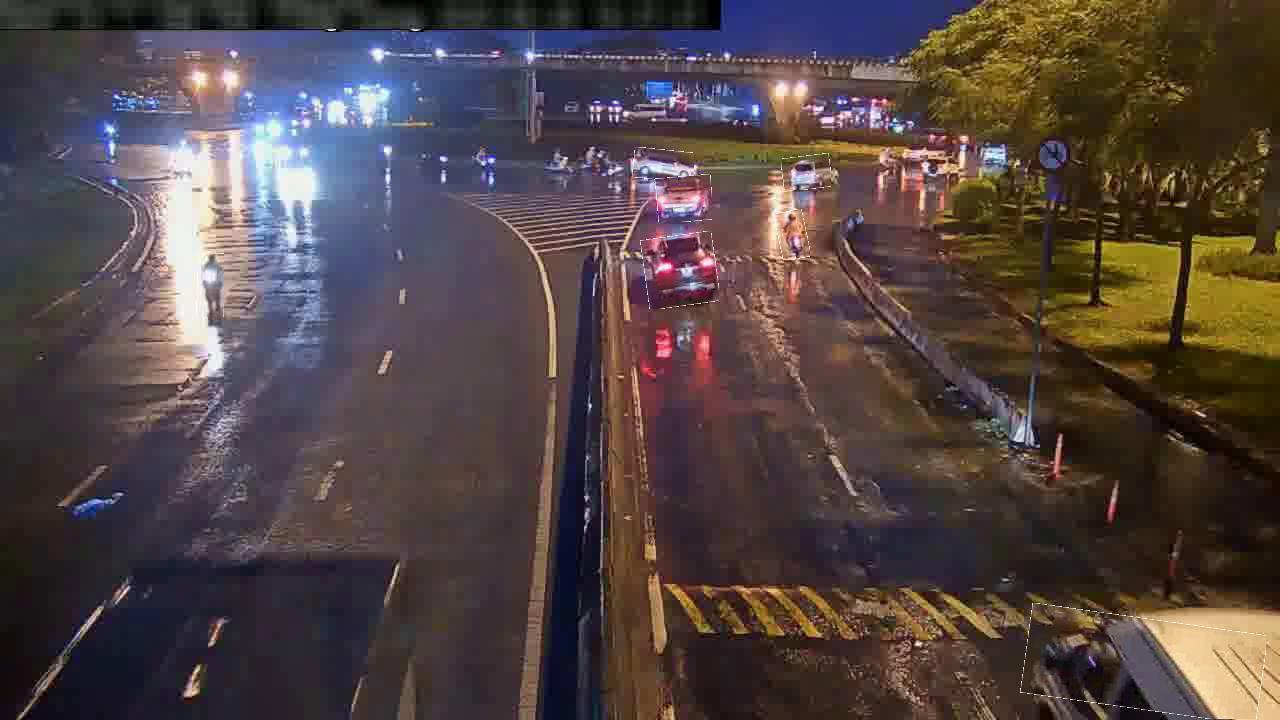14: (1023, 611, 1265, 717)
container: (643, 234, 718, 308), (656, 175, 713, 222), (633, 148, 695, 182), (782, 155, 832, 190)
motorbike: (197, 253, 225, 318), (777, 210, 809, 260)
